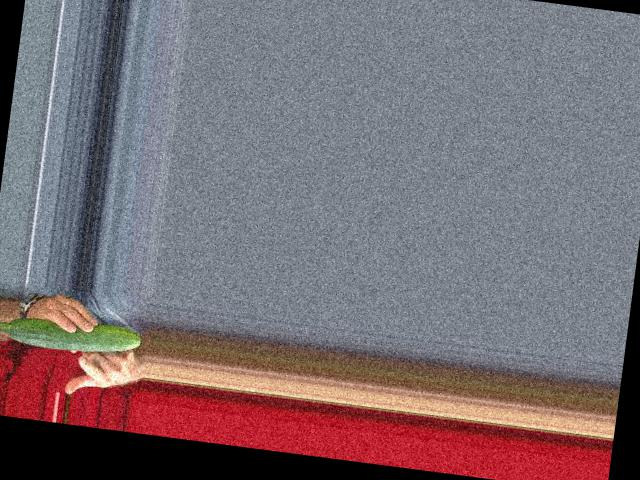cucumber: (5, 311, 142, 359)
